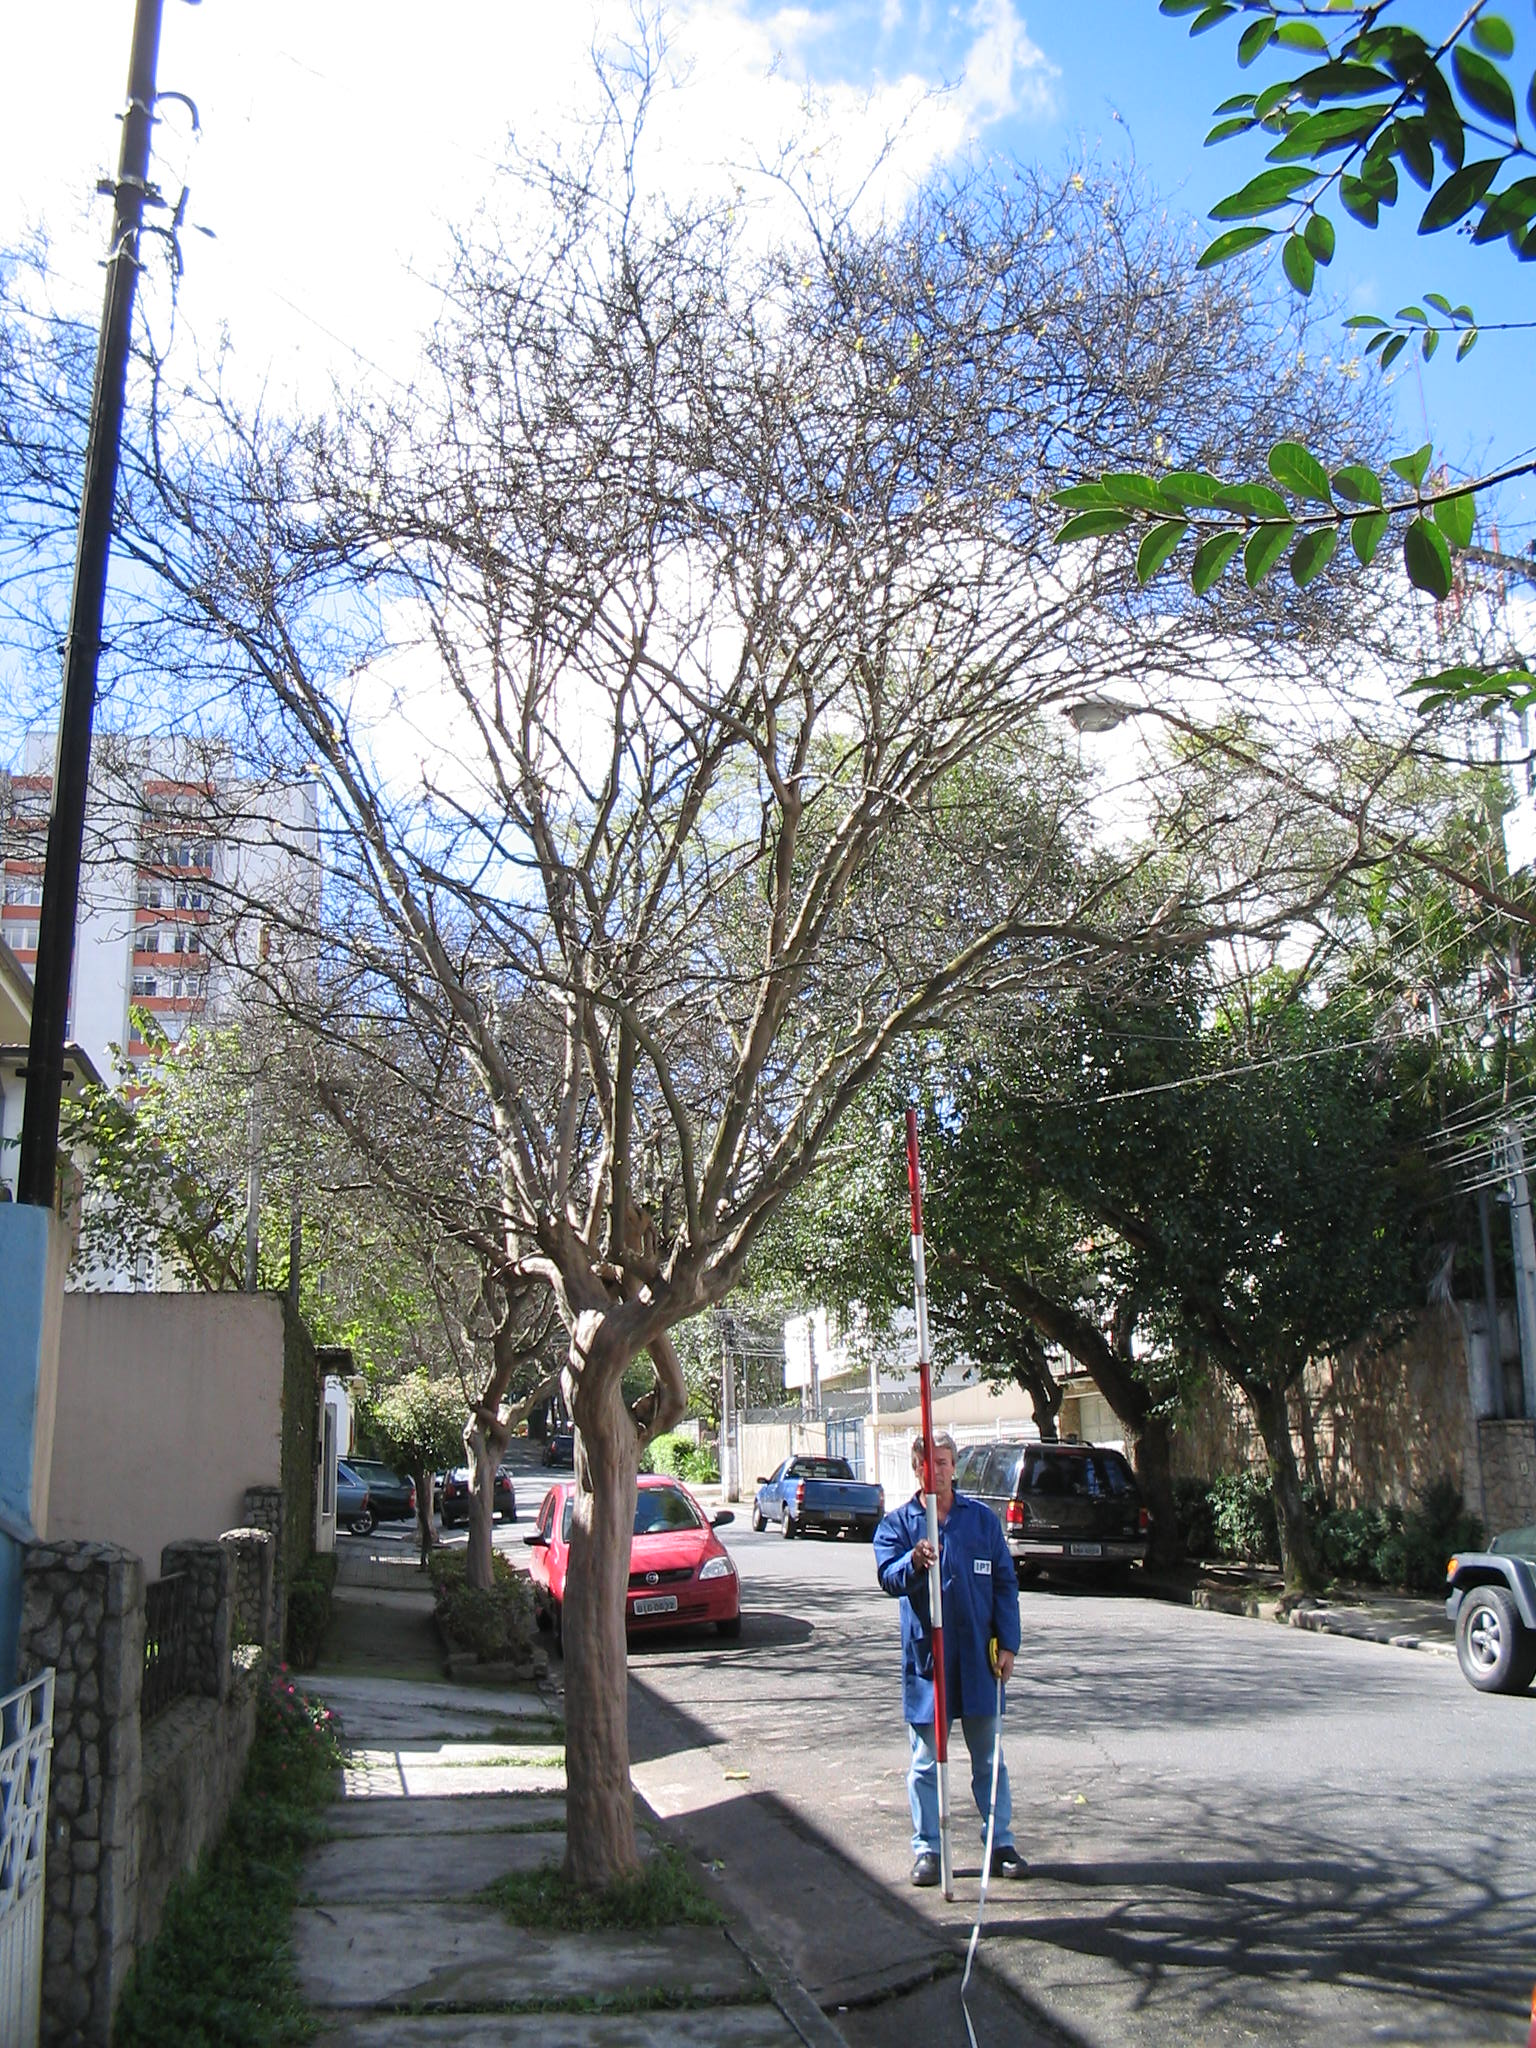stem: (528, 1432, 695, 1890)
stick: (865, 1108, 997, 1900)
tree: (15, 5, 1439, 1890)
